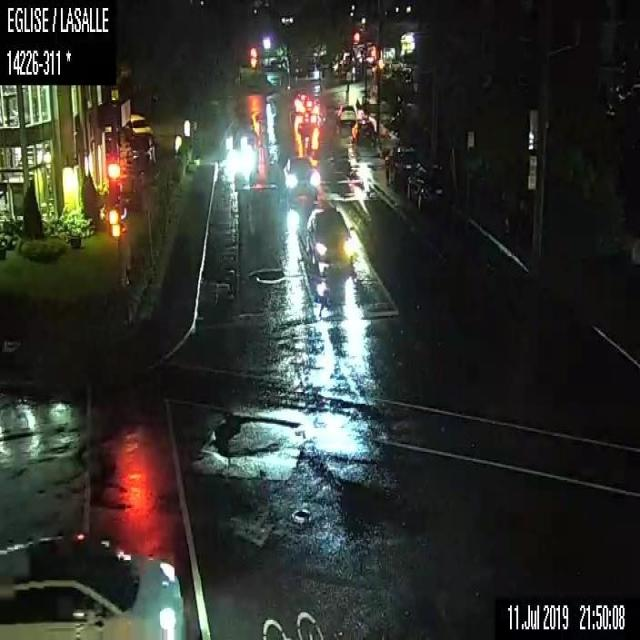pedestrian: (345, 71, 350, 93)
vehicle: (0, 532, 185, 639), (304, 204, 356, 275), (406, 163, 452, 210), (275, 155, 319, 201), (384, 146, 414, 191), (292, 110, 326, 134), (351, 118, 376, 146), (130, 112, 152, 134), (336, 102, 356, 125)
